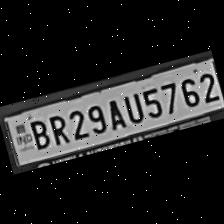2: (62, 104, 90, 142), (194, 66, 222, 104)
5: (137, 82, 164, 120)
6: (174, 74, 201, 110)
7: (156, 79, 180, 115)
9: (81, 99, 109, 136)
A: (100, 93, 127, 132)
B: (23, 114, 51, 152)
R: (42, 109, 70, 147)
U: (119, 86, 146, 124)
